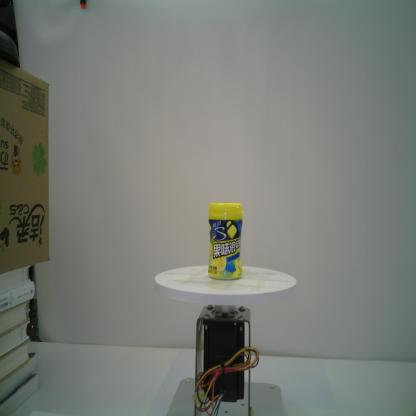Gum: (208, 202, 245, 280)
